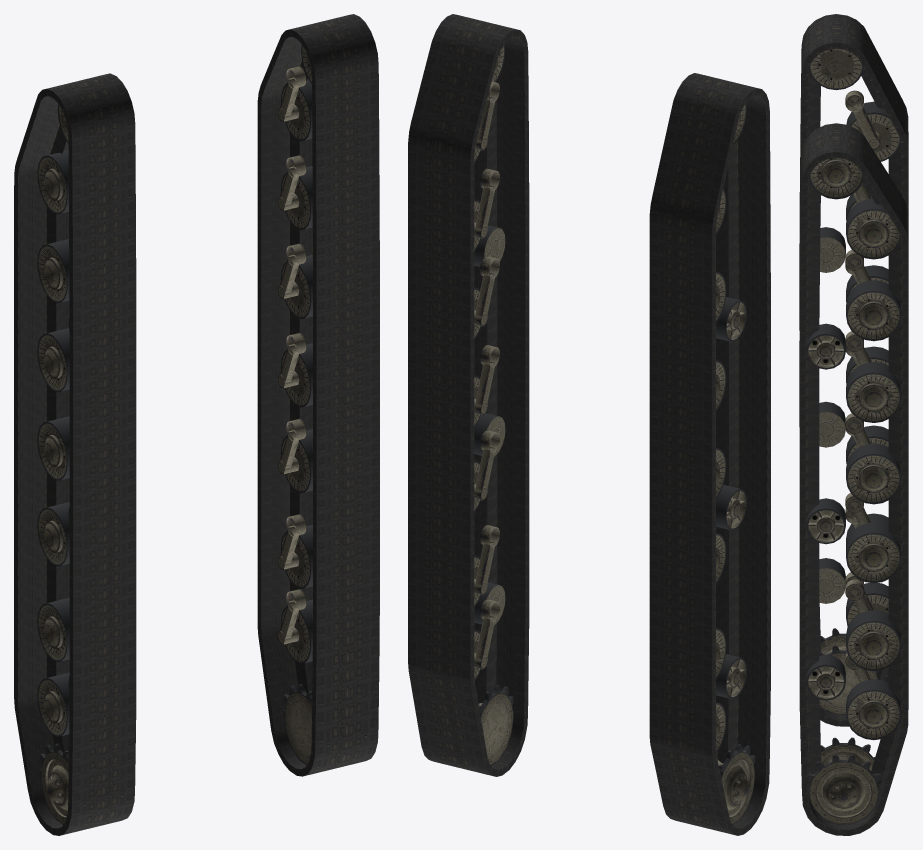
The model's file is Chassis.glb.
3 views of the same model, side by side, from view 1: azimuth 30°, elevation 25°; view 2: azimuth 150°, elevation 25°; view 3: azimuth 270°, elevation 25° (orthographic). The views are drawn at different scales.
Visible parts, largest first — view 1: set_0_group_0, set_1_group_0, set_3_group_0, set_2_group_0; view 2: set_0_group_0, set_1_group_0, set_3_group_0, set_2_group_0; view 3: set_3_group_0, set_1_group_0, set_2_group_0, set_0_group_0.
Part boxes in pixels (left/top/right/bottom): set_0_group_0: left=14, top=73, right=136, bottom=835; set_1_group_0: left=257, top=14, right=379, bottom=776; set_3_group_0: left=278, top=44, right=366, bottom=765; set_2_group_0: left=37, top=104, right=123, bottom=824; set_0_group_0: left=649, top=73, right=770, bottom=835; set_1_group_0: left=408, top=14, right=529, bottom=776; set_3_group_0: left=474, top=44, right=513, bottom=765; set_2_group_0: left=716, top=103, right=755, bottom=824; set_3_group_0: left=806, top=158, right=901, bottom=824; set_1_group_0: left=799, top=123, right=908, bottom=835; set_2_group_0: left=809, top=48, right=900, bottom=715; set_0_group_0: left=799, top=14, right=908, bottom=726.
Bounding box in the file's own units: 3.16 × 7.33 × 1.06.
4 materials, 4 textured.
